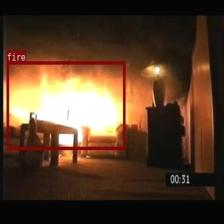fire: (6, 61, 125, 149)
